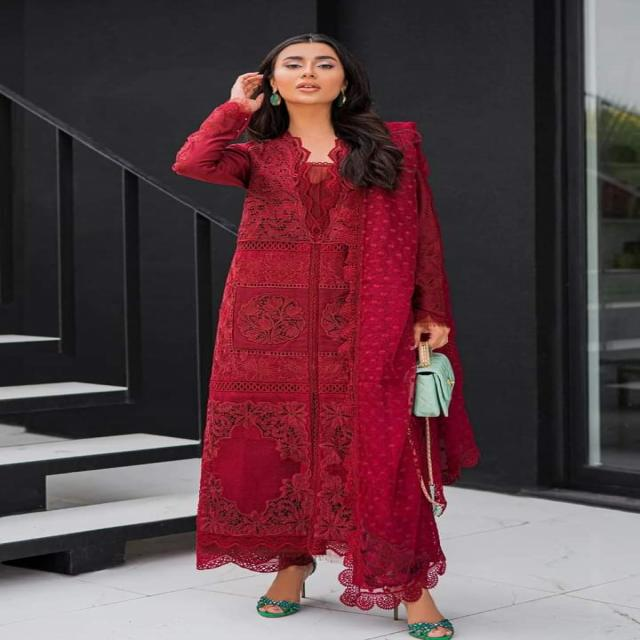female-dress: (167, 121, 483, 590)
